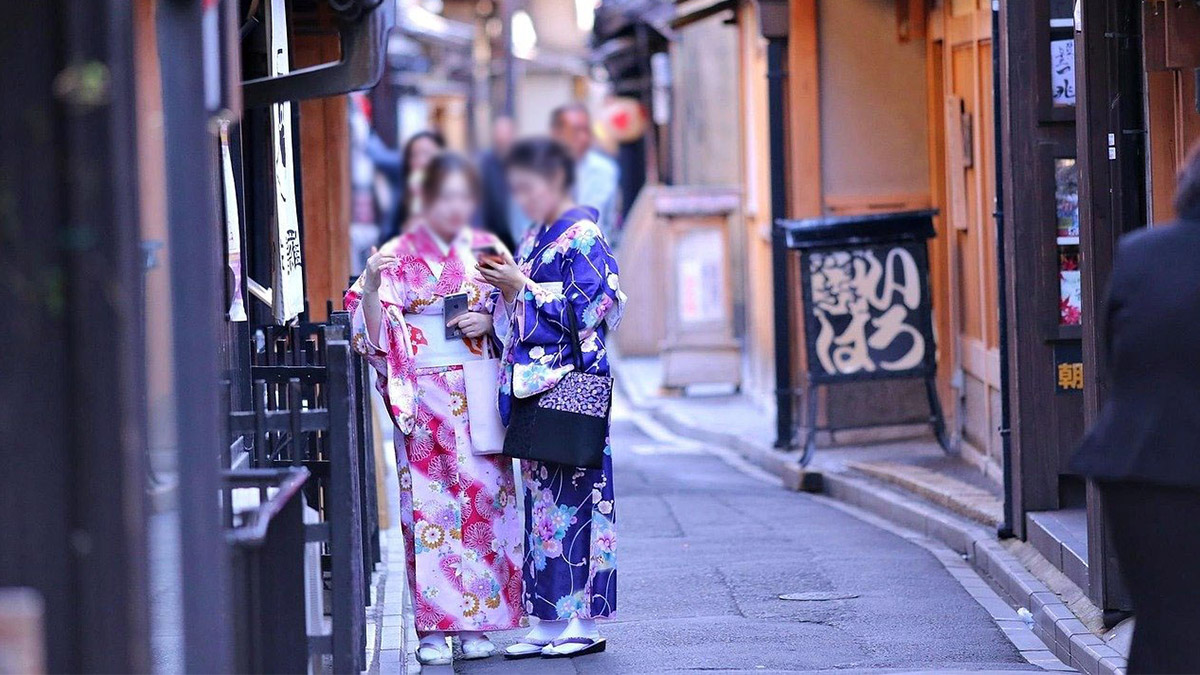people: (370, 157, 509, 662), (492, 136, 617, 658), (1100, 141, 1200, 675), (541, 104, 619, 385), (390, 136, 461, 367), (466, 116, 522, 289)
